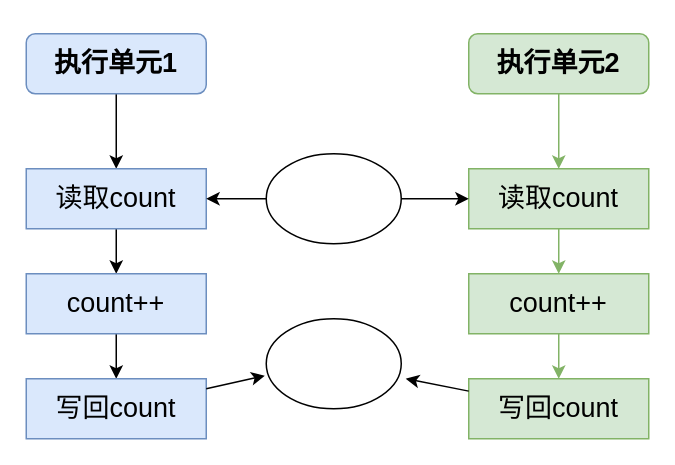
This 675x465 diagram has some shape labels left out. Here are the shapes that lost their labels. From the top down, the centre of each, then its label:
point 333,198: count=0
point 333,363: count=1
